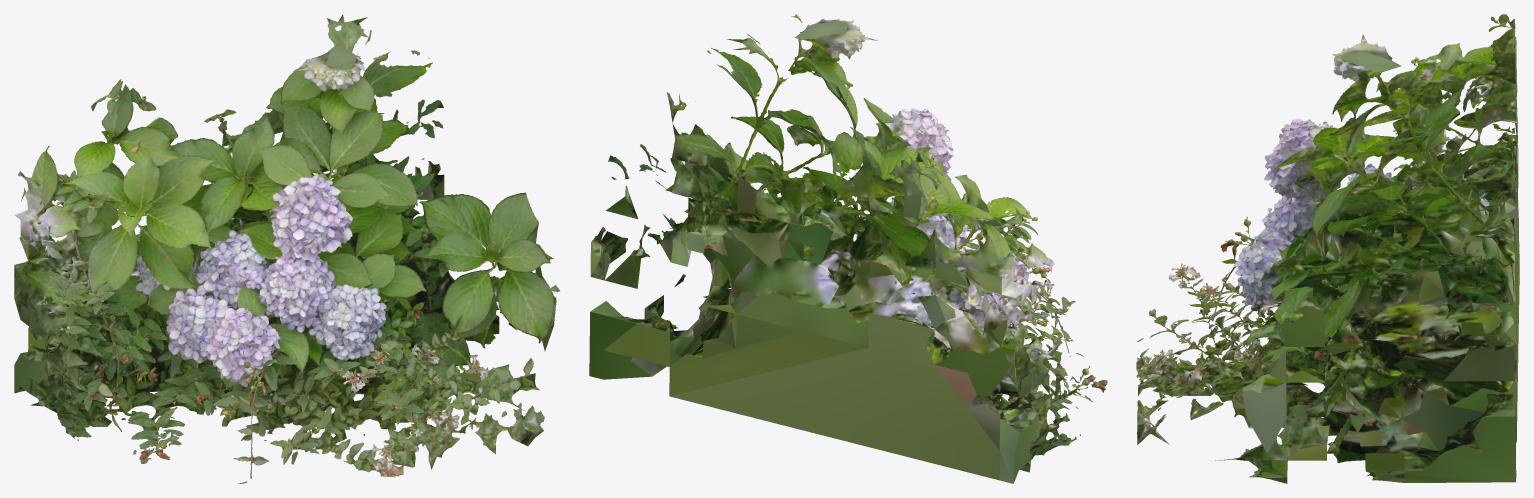
3 renders of one model, left to right at view 1: azimuth 30°, elevation 25°; view 2: azimuth 150°, elevation 25°; view 3: azimuth 270°, elevation 25°, orthographic. The views are drawn at different scales.
Visible parts, largest first — view 1: Object_2, Object_7, Object_4, Object_3, Object_6, Object_5, Object_8; view 2: Object_7, Object_2, Object_3, Object_6, Object_5, Object_4, Object_8; view 3: Object_3, Object_7, Object_2, Object_5, Object_6, Object_4, Object_8.
Part boxes in pixels (box(x1,y1,x2,y2)): Object_2: box(102, 14, 417, 360); Object_7: box(14, 146, 560, 429); Object_4: box(14, 202, 441, 483); Object_3: box(126, 75, 502, 477); Object_6: box(18, 79, 443, 410); Object_5: box(21, 17, 544, 446); Object_8: box(199, 172, 401, 444); Object_7: box(665, 98, 1030, 483); Object_2: box(703, 14, 1002, 348); Object_3: box(589, 44, 1065, 396); Object_6: box(605, 144, 1081, 425); Object_5: box(644, 34, 1089, 432); Object_4: box(833, 196, 1107, 482); Object_8: box(722, 167, 1060, 333); Object_3: box(1137, 75, 1517, 482); Object_7: box(1136, 92, 1519, 453); Object_2: box(1285, 27, 1516, 305); Object_5: box(1137, 82, 1513, 483); Object_6: box(1364, 14, 1517, 418); Object_4: box(1187, 81, 1516, 428); Object_8: box(1187, 201, 1481, 384).
Size of the model in its own units: 1.22 by 0.9239 by 0.923.
1 material, 1 textured.
